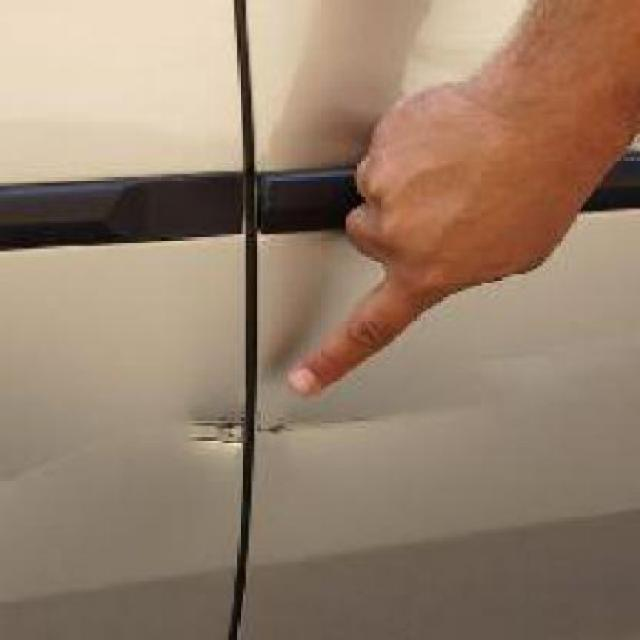dent-or-scratch: (178, 397, 376, 457)
